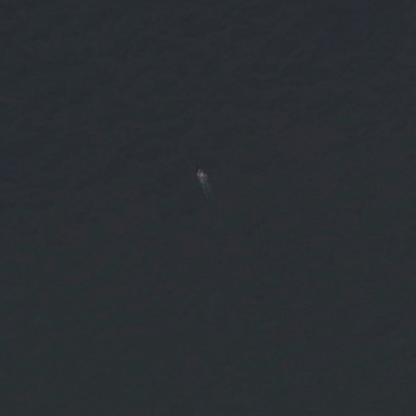ship: (188, 162, 212, 185)
